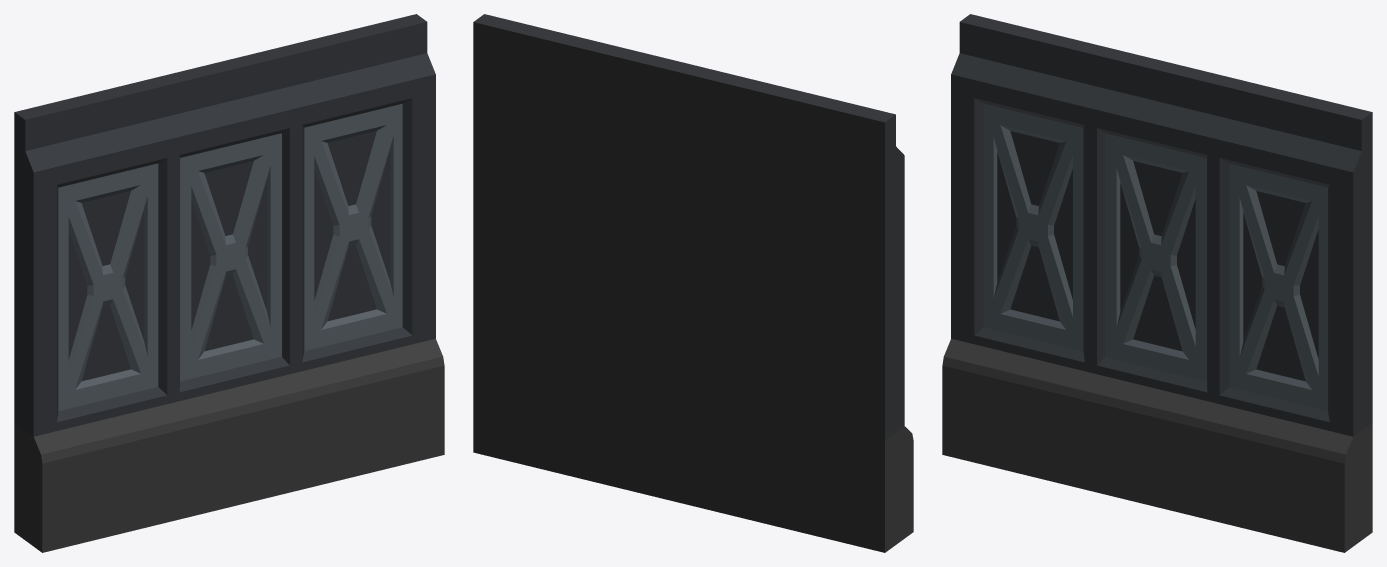
The model's file is SM_Bld_Wall_Exterior_04.fbx.
3 views of the same model, side by side, from view 1: azimuth 30°, elevation 25°; view 2: azimuth 150°, elevation 25°; view 3: azimuth 330°, elevation 25° (orthographic). The views are drawn at different scales.
Visible parts, largest first — view 1: SM_Bld_Wall_Exterior_04; view 2: SM_Bld_Wall_Exterior_04; view 3: SM_Bld_Wall_Exterior_04.
Boxes of the visible parts, <box> form: SM_Bld_Wall_Exterior_04: <box>14,14,444,552</box>; SM_Bld_Wall_Exterior_04: <box>473,14,913,552</box>; SM_Bld_Wall_Exterior_04: <box>942,14,1372,552</box>.
Size of the model in its own units: 500 by 500 by 60.11.
Materials: 1 (1 with a texture image).
